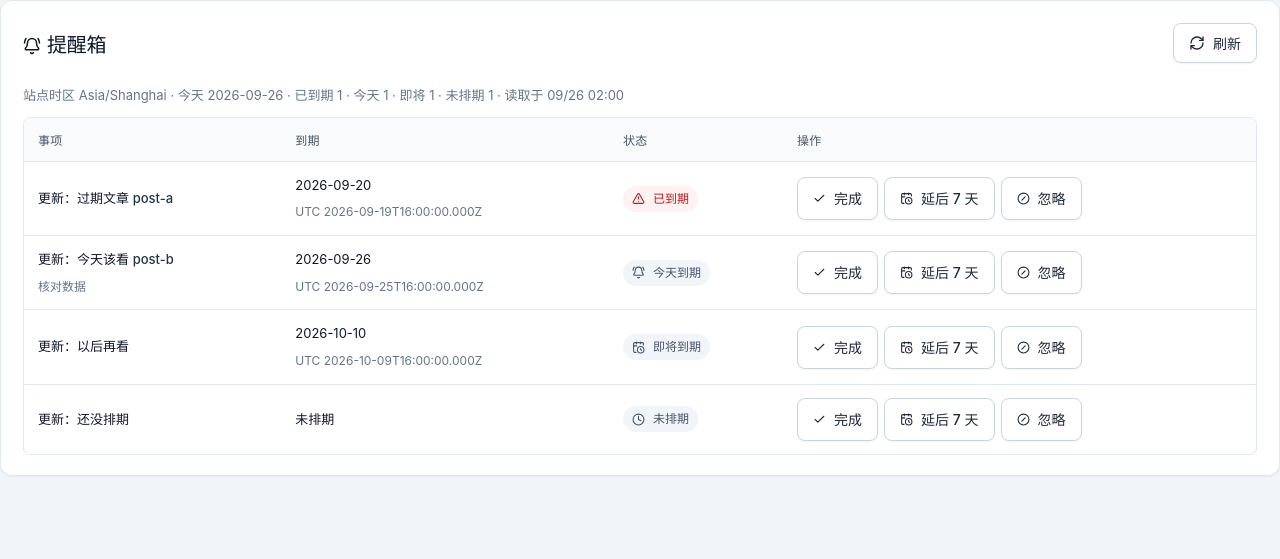
Test: ReminderInboxPanel（O04 提醒箱界面） › 忽略：带原因提交，并提示已忽略
Click the button "忽略" in the row of "更新：过期文章".
click(1041, 199)  # box [1001,177,1082,220]
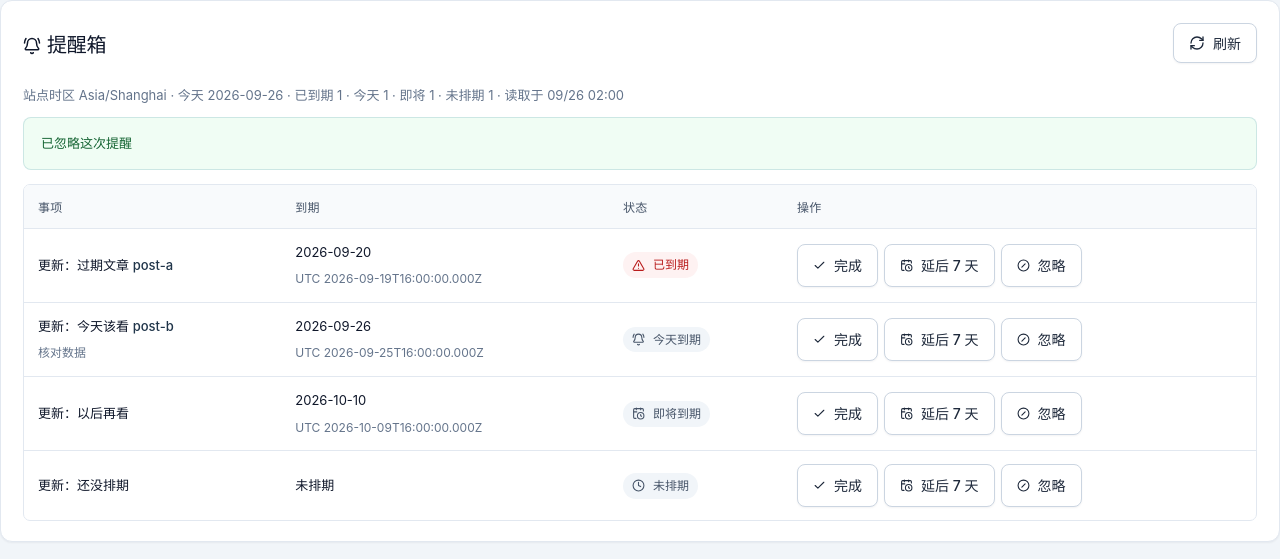
Expected: the text "已忽略这次提醒" is shown, [23,117,1257,170]
